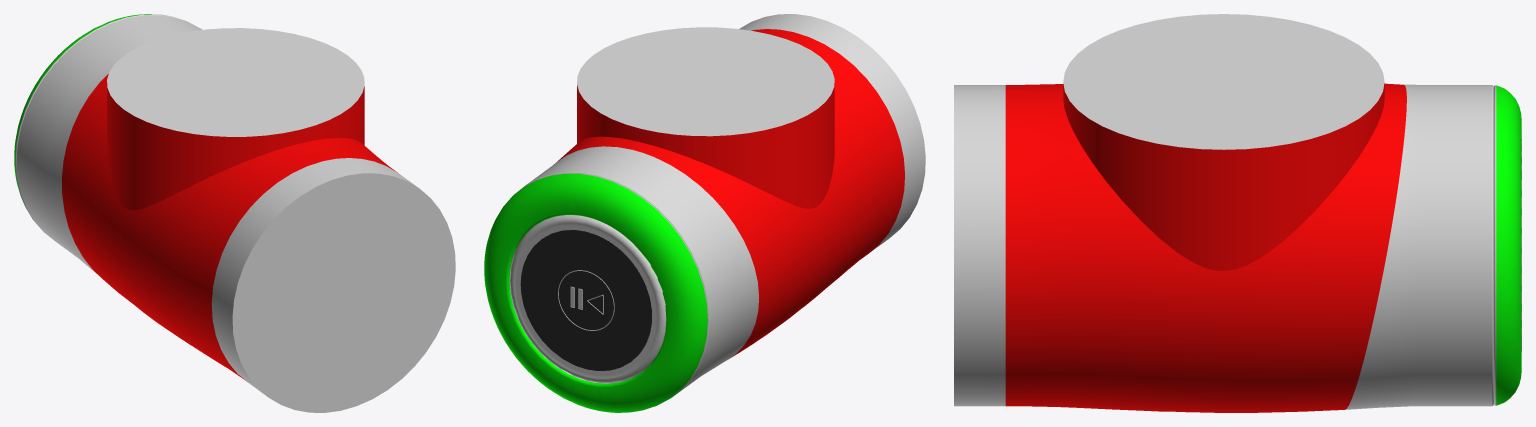
The model's file is JAKA_Zu_5_J5.gltf.
3 views of the same model, side by side, from view 1: azimuth 30°, elevation 25°; view 2: azimuth 150°, elevation 25°; view 3: azimuth 270°, elevation 25° (orthographic). The views are drawn at different scales.
Parts seen in each view (by area): view 1: Zu 5 05_Ĭɏ; view 2: Zu 5 05_Ĭɏ, Zu 5 05_Ĭɏ001; view 3: Zu 5 05_Ĭɏ.
Boxes of the visible parts, x1=… form: Zu 5 05_Ĭɏ: x1=14, y1=14, x2=455, y2=412; Zu 5 05_Ĭɏ: x1=484, y1=14, x2=925, y2=412; Zu 5 05_Ĭɏ001: x1=520, y1=230, x2=651, y2=370; Zu 5 05_Ĭɏ: x1=954, y1=14, x2=1521, y2=412.
Bounding box in the file's own units: 0.0843 × 0.0877 × 0.1431.
